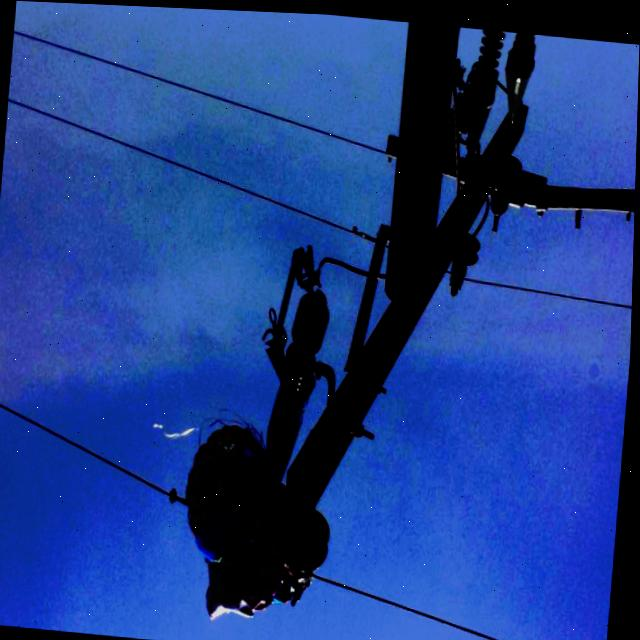obstruction: (187, 422, 325, 611), (266, 395, 308, 481)
poles: (289, 20, 528, 517)
wires: (9, 95, 371, 230), (20, 32, 385, 145), (0, 398, 181, 495), (258, 231, 346, 402), (318, 572, 525, 640), (459, 31, 535, 121), (473, 274, 634, 300)
